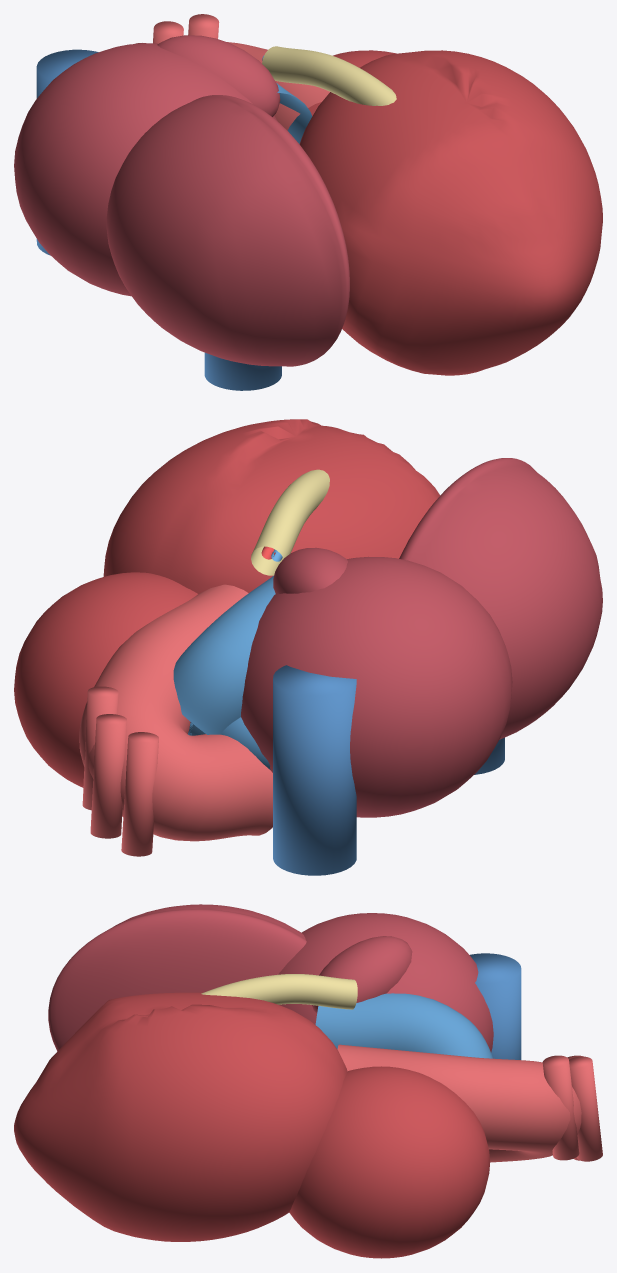
The model's file is heart_realistic.glb.
3 views of the same model, one above another, from view 1: azimuth 30°, elevation 25°; view 2: azimuth 150°, elevation 25°; view 3: azimuth 270°, elevation 25° (orthographic). The views are drawn at different scales.
Visible parts, largest first — view 1: Left_Ventricle, Right_Ventricle, Right_Atrium, Sulcus_Adipose_Cushion, Right_Auricle, Inferior_Vena_Cava, Aortic_Arch, Superior_Vena_Cava, Pulmonary_Trunk, Left_Atrium, Brachiocephalic_Artery, Left_Common_Carotid; view 2: Right_Atrium, Left_Ventricle, Right_Ventricle, Aortic_Arch, Left_Atrium, Superior_Vena_Cava, Pulmonary_Trunk, Left_Subclavian_Artery, Left_Common_Carotid, Sulcus_Adipose_Cushion, Right_Auricle, Brachiocephalic_Artery (+1 smaller); view 3: Left_Ventricle, Left_Atrium, Right_Ventricle, Aortic_Arch, Right_Atrium, Pulmonary_Trunk, Superior_Vena_Cava, Right_Auricle, Sulcus_Adipose_Cushion, Left_Common_Carotid, Brachiocephalic_Artery.
Boxes of the visible parts, <box> form: Left_Ventricle: <box>299,50,602,375</box>; Right_Ventricle: <box>106,95,349,366</box>; Right_Atrium: <box>14,43,277,296</box>; Sulcus_Adipose_Cushion: <box>262,46,396,105</box>; Right_Auricle: <box>157,35,280,116</box>; Inferior_Vena_Cava: <box>204,352,281,390</box>; Aortic_Arch: <box>227,42,329,130</box>; Superior_Vena_Cava: <box>36,49,98,255</box>; Pulmonary_Trunk: <box>276,83,312,143</box>; Left_Atrium: <box>308,50,396,115</box>; Brachiocephalic_Artery: <box>188,14,219,38</box>; Left_Common_Carotid: <box>153,21,183,43</box>; Right_Atrium: <box>241,556,512,817</box>; Left_Ventricle: <box>103,419,440,593</box>; Right_Ventricle: <box>399,458,602,739</box>; Aortic_Arch: <box>79,584,272,841</box>; Left_Atrium: <box>14,572,197,787</box>; Superior_Vena_Cava: <box>273,665,356,875</box>; Pulmonary_Trunk: <box>173,576,275,734</box>; Left_Subclavian_Artery: <box>121,732,158,856</box>; Left_Common_Carotid: <box>90,714,126,838</box>; Sulcus_Adipose_Cushion: <box>251,469,329,575</box>; Right_Auricle: <box>273,547,347,593</box>; Brachiocephalic_Artery: <box>82,686,118,810</box>; Left_Ventricle: <box>14,992,347,1241</box>; Left_Atrium: <box>289,1066,490,1258</box>; Right_Ventricle: <box>48,904,306,1050</box>; Aortic_Arch: <box>337,1044,581,1162</box>; Right_Atrium: <box>278,913,493,1052</box>; Pulmonary_Trunk: <box>315,993,492,1058</box>; Superior_Vena_Cava: <box>470,953,521,1059</box>; Right_Auricle: <box>312,936,412,1013</box>; Sulcus_Adipose_Cushion: <box>201,974,357,1009</box>; Left_Common_Carotid: <box>569,1056,602,1161</box>; Brachiocephalic_Artery: <box>542,1055,579,1160</box>.
Bounding box in the file's own units: 4.77 × 2.86 × 6.24.
